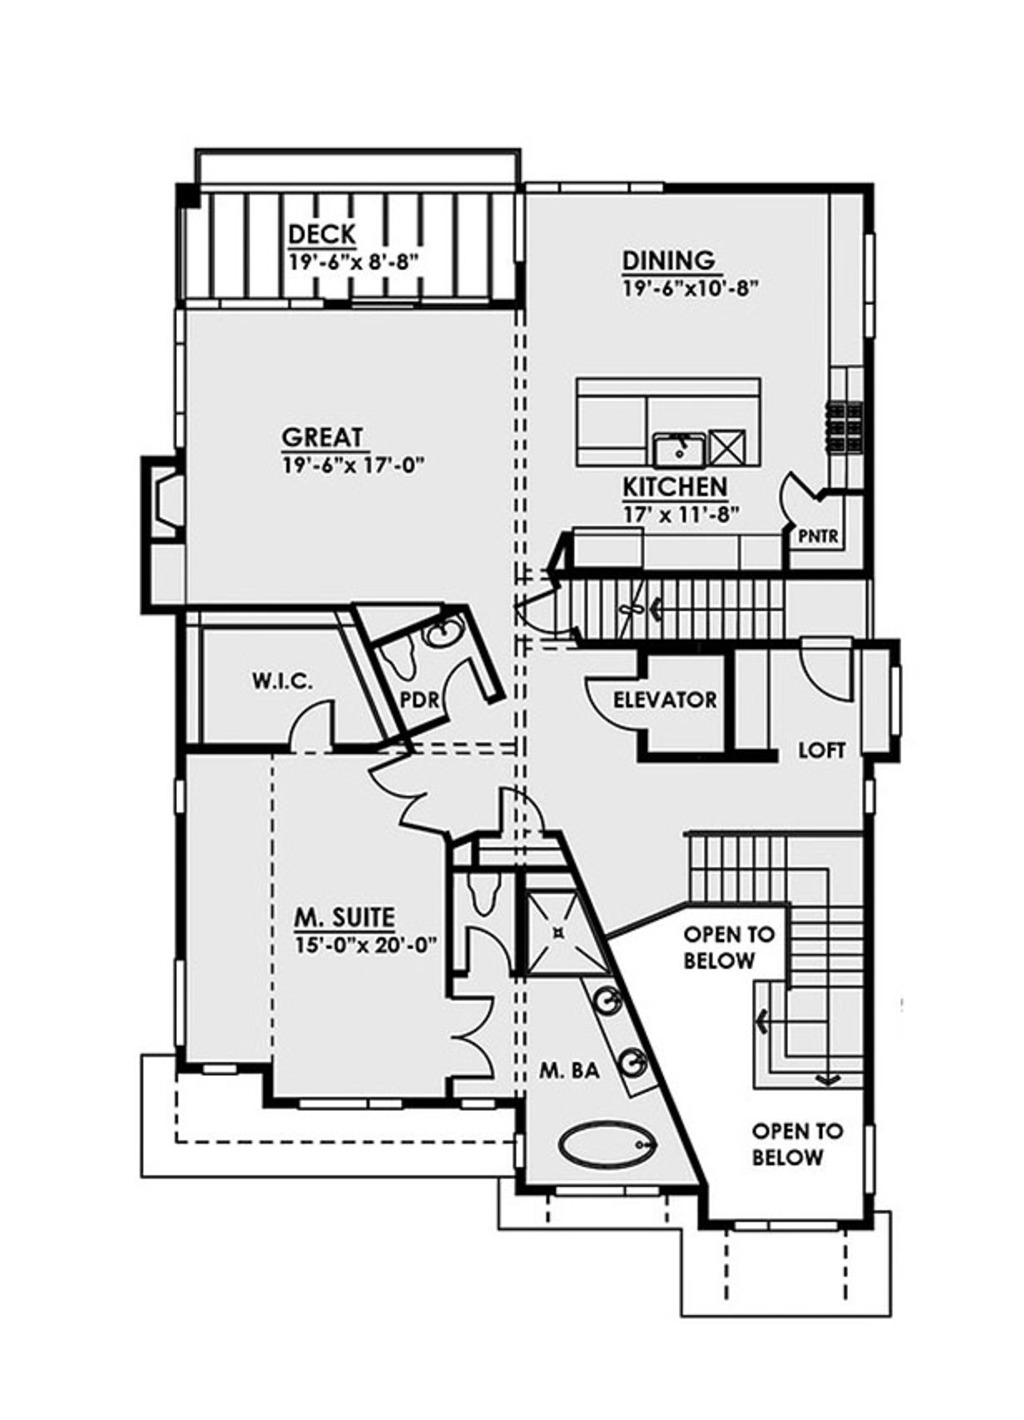door: (364, 747, 444, 839), (785, 641, 855, 709), (444, 986, 494, 1080), (579, 670, 643, 735), (281, 697, 343, 750), (459, 921, 516, 976), (434, 659, 488, 718), (494, 783, 545, 843), (767, 467, 809, 518)
kitchen_bar: (570, 370, 770, 476)
stairs: (685, 829, 869, 1102), (182, 185, 537, 306), (547, 579, 797, 650)
tub: (549, 1115, 670, 1170)
windows: (729, 1212, 849, 1244), (166, 946, 197, 1052), (282, 1091, 412, 1115), (552, 1179, 661, 1205), (862, 223, 879, 343)
